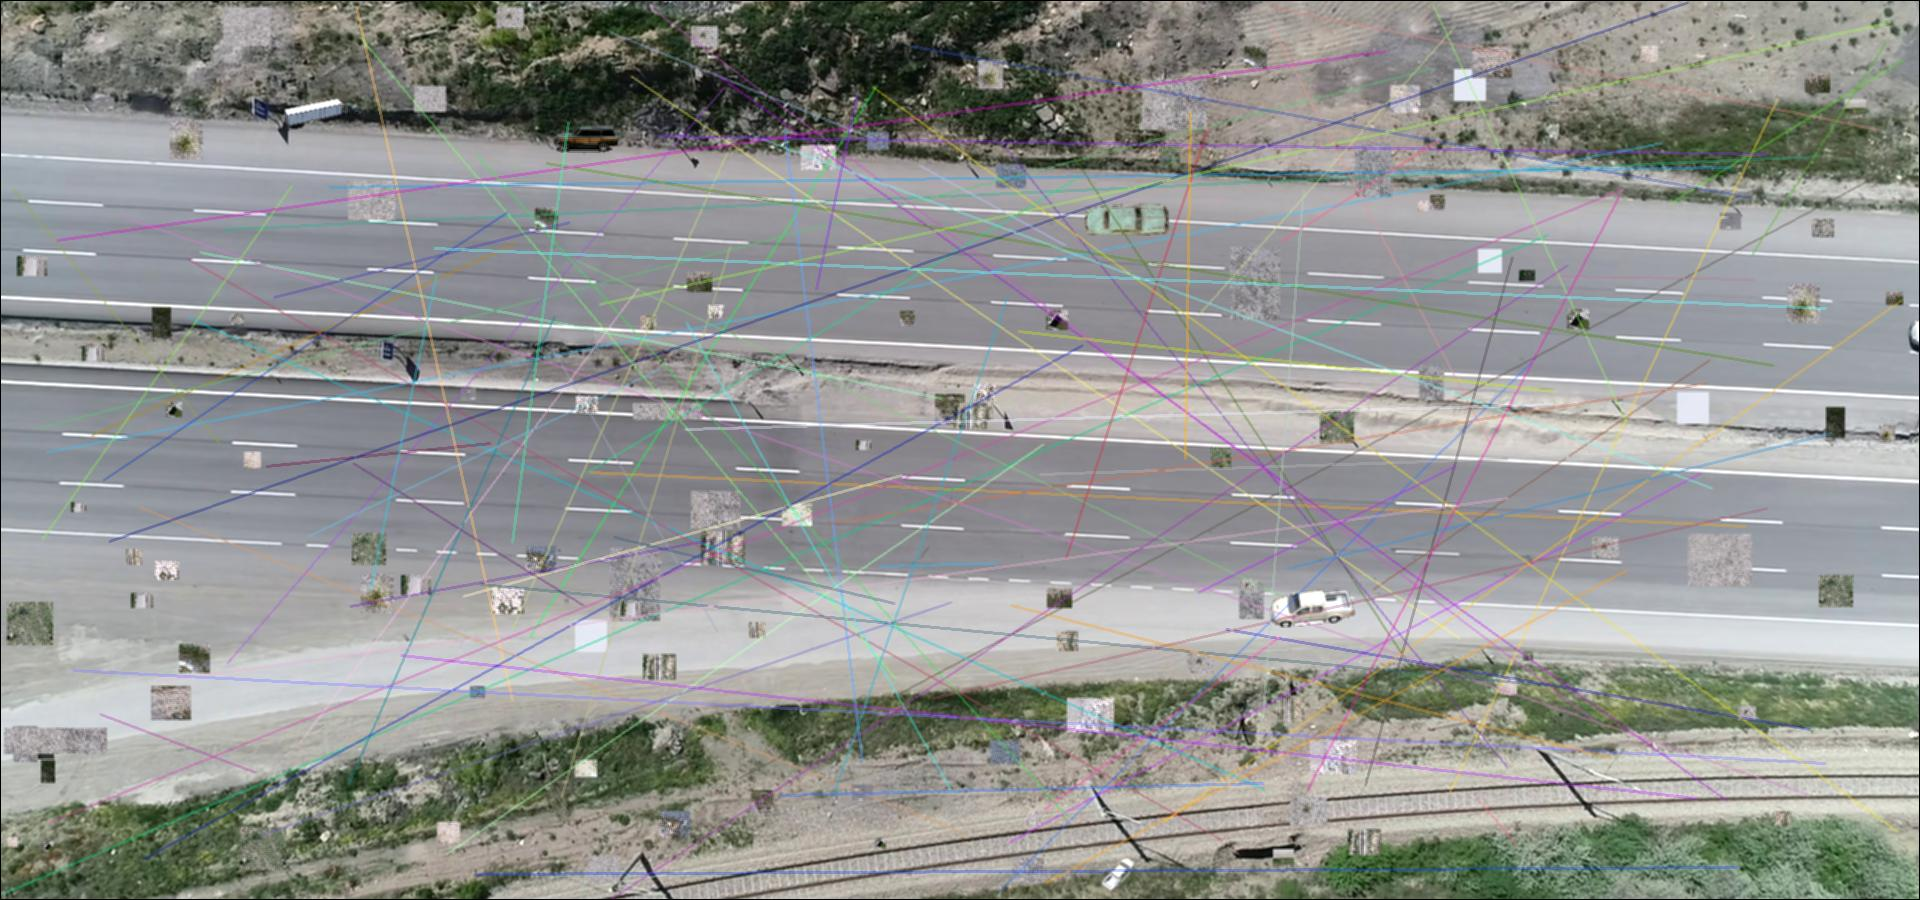arac: (1270, 587, 1356, 627), (1081, 202, 1171, 235), (283, 98, 361, 129), (552, 124, 620, 154), (1100, 857, 1138, 894)
